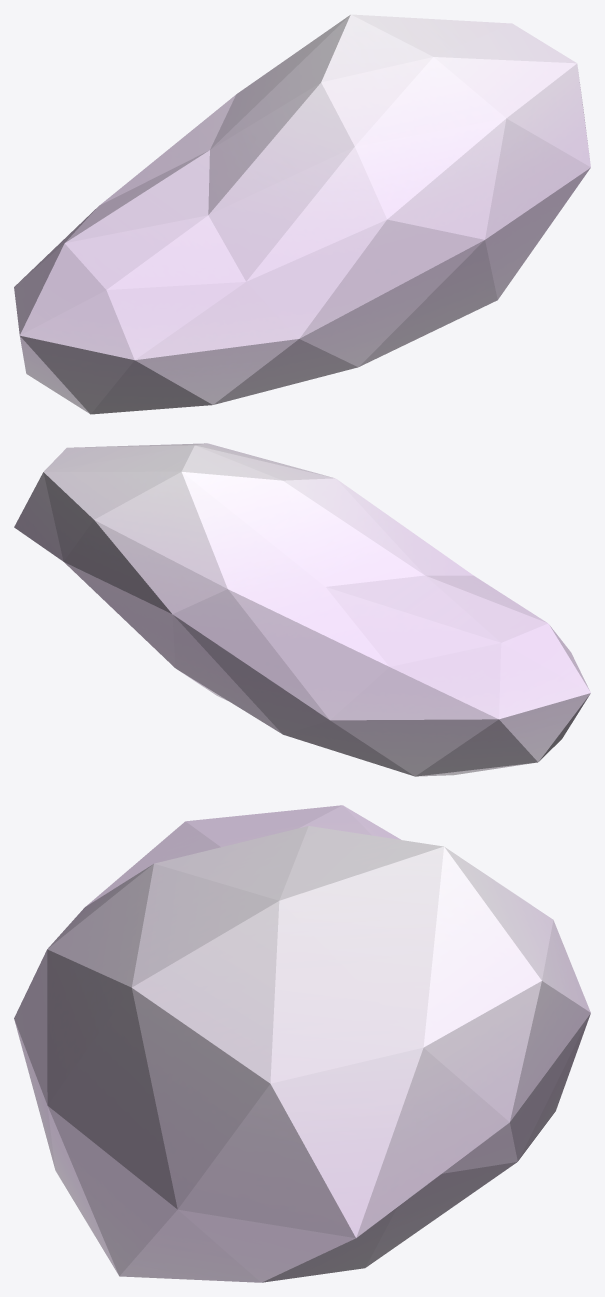
Rendered from Night_Cloud_003.FBX.
3 views of the same model, one above another, from view 1: azimuth 30°, elevation 25°; view 2: azimuth 150°, elevation 25°; view 3: azimuth 270°, elevation 25° (orthographic). The views are drawn at different scales.
Visible parts, largest first — view 1: Night_Cloud_003; view 2: Night_Cloud_003; view 3: Night_Cloud_003.
Boxes of the visible parts, left/top/right/bottom form: Night_Cloud_003: left=14, top=14, right=590, bottom=414; Night_Cloud_003: left=14, top=443, right=590, bottom=776; Night_Cloud_003: left=14, top=805, right=590, bottom=1282.
Size of the model in its own units: 2317 by 1085 by 1148.
Materials: 1 (1 with a texture image).
